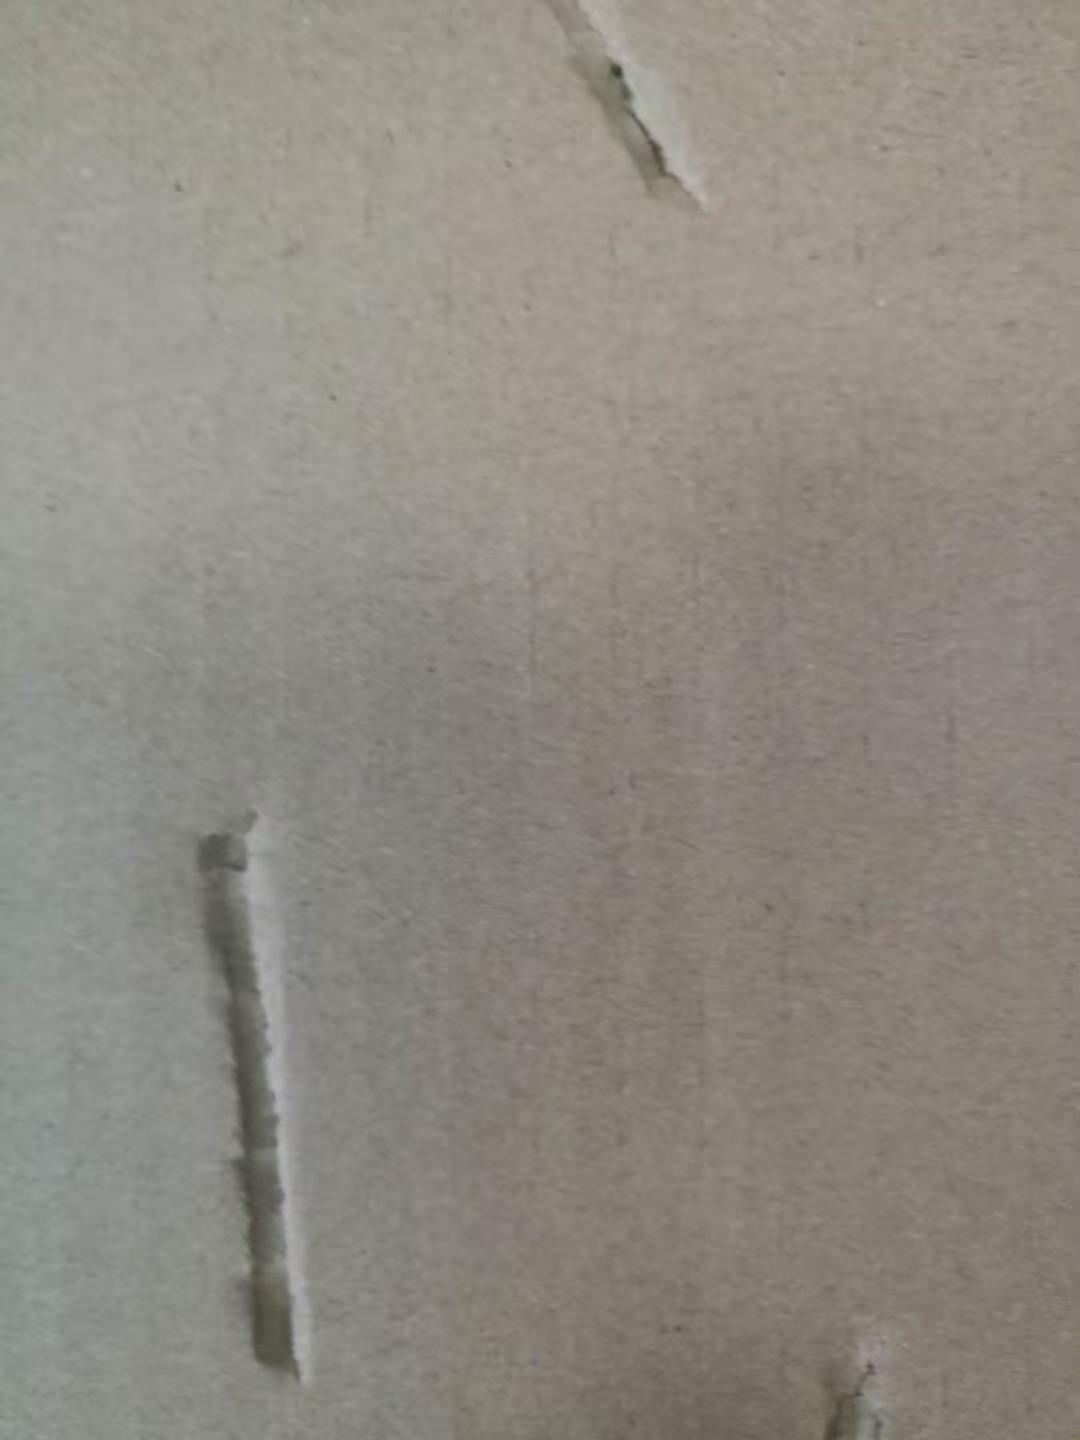defect: (142, 781, 382, 1408), (517, 1, 731, 236), (786, 1322, 923, 1440)
